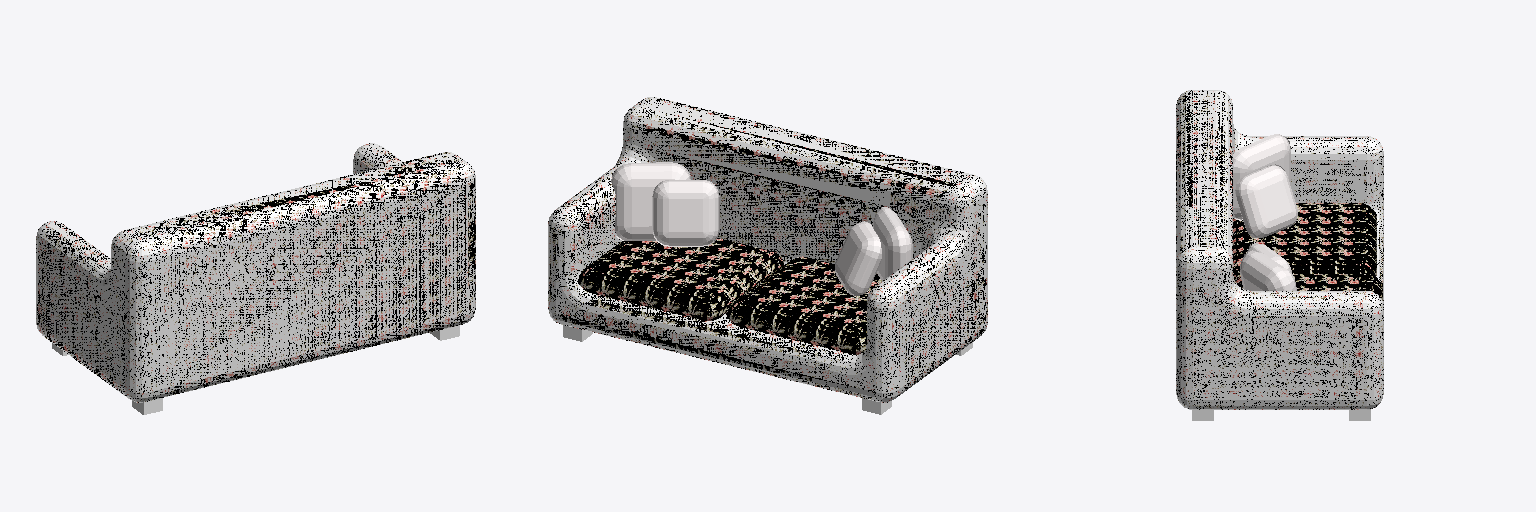
The picture shows the model from 3 angles: view 1: azimuth 30°, elevation 25°; view 2: azimuth 150°, elevation 25°; view 3: azimuth 270°, elevation 25°; orthographic projection.
Parts seen in each view (by area): view 1: mesh4_mesh4-geometry; view 2: mesh4_mesh4-geometry, mesh3_mesh3-geometry, mesh1_mesh1-geometry, mesh2_mesh2-geometry; view 3: mesh4_mesh4-geometry, mesh3_mesh3-geometry, mesh2_mesh2-geometry, mesh1_mesh1-geometry.
Part boxes in pixels (bbox=[...]): mesh4_mesh4-geometry: bbox=[36, 143, 475, 402]; mesh4_mesh4-geometry: bbox=[548, 97, 987, 402]; mesh3_mesh3-geometry: bbox=[611, 162, 912, 295]; mesh1_mesh1-geometry: bbox=[578, 238, 783, 320]; mesh2_mesh2-geometry: bbox=[727, 256, 881, 354]; mesh4_mesh4-geometry: bbox=[1176, 90, 1383, 420]; mesh3_mesh3-geometry: bbox=[1233, 134, 1297, 290]; mesh2_mesh2-geometry: bbox=[1233, 203, 1376, 279]; mesh1_mesh1-geometry: bbox=[1235, 274, 1382, 300].
Size of the model in its own units: 0.818 by 0.3903 by 0.4226.
5 materials, 1 textured.